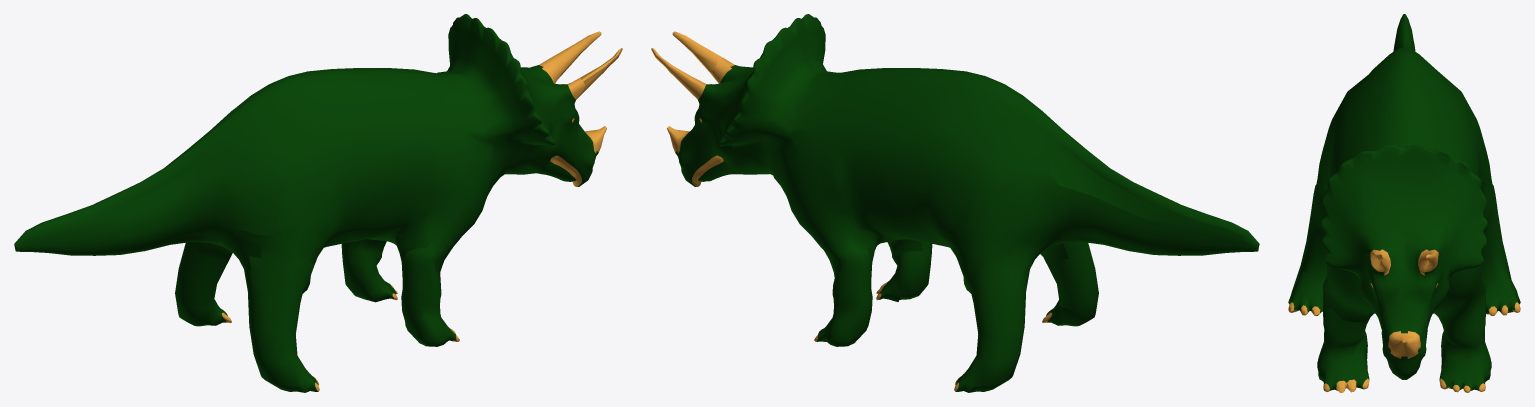
File: triceratops.obj
The picture shows the model from 3 angles, left to right: view 1: azimuth 30°, elevation 25°; view 2: azimuth 150°, elevation 25°; view 3: azimuth 270°, elevation 25°; orthographic projection. The views are drawn at different scales.
Parts seen in each view (by area): view 1: skin, horns; view 2: skin, horns; view 3: skin, horns, toes.
Part boxes in pixels (x1,y1,x2,y2): skin: (14,14,598,392); horns: (539,31,622,153); skin: (675,14,1259,392); horns: (651,31,734,153); skin: (1288,14,1520,390); horns: (1370,249,1438,358); toes: (1288,302,1520,392).
Bounding box in the file's own units: 17.72 × 7.76 × 5.86.
